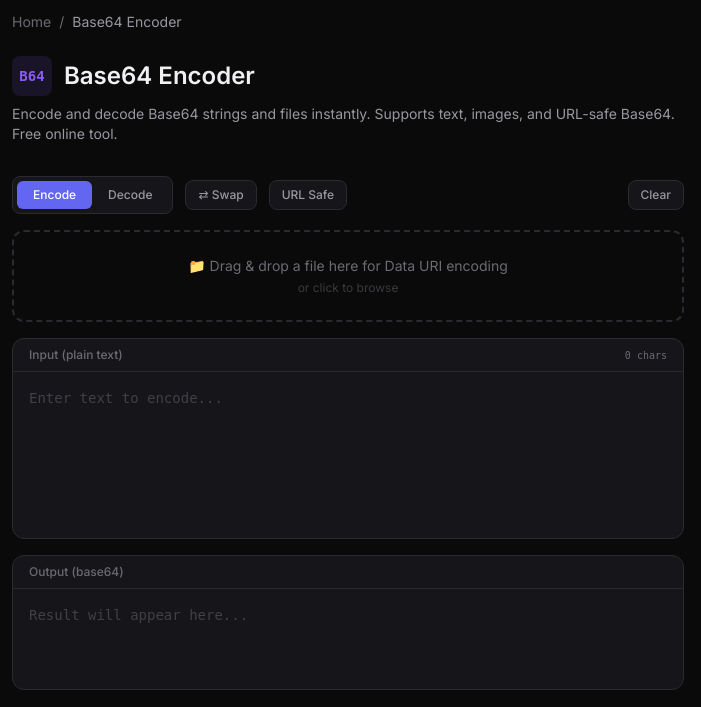
Base64Tool › encodes text to base64
Type "Hello" into the text box with placeholder "Enter text to encode...".
click(348, 452); type("Hello")  # box [13,372,683,532]
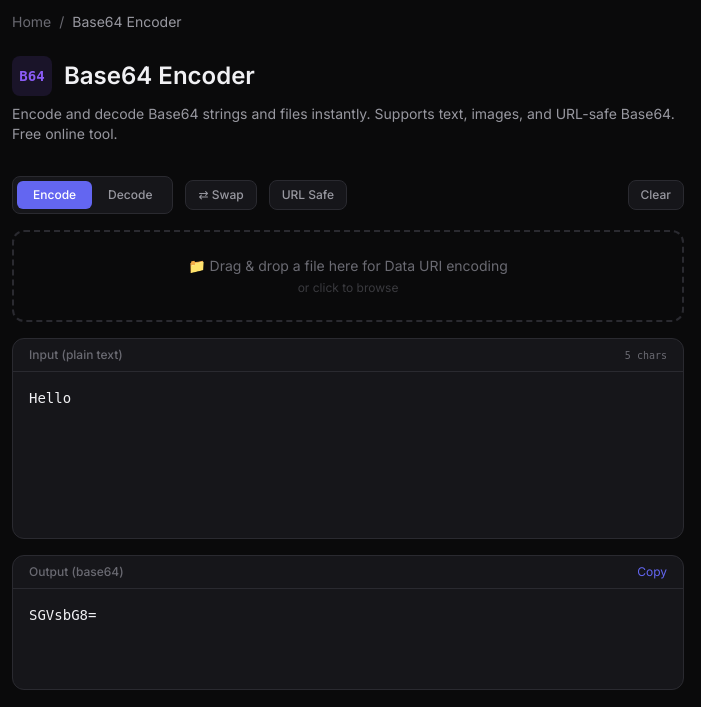
expect the text "SGVsbG8=" is shown: met, box [29,607,96,623]
